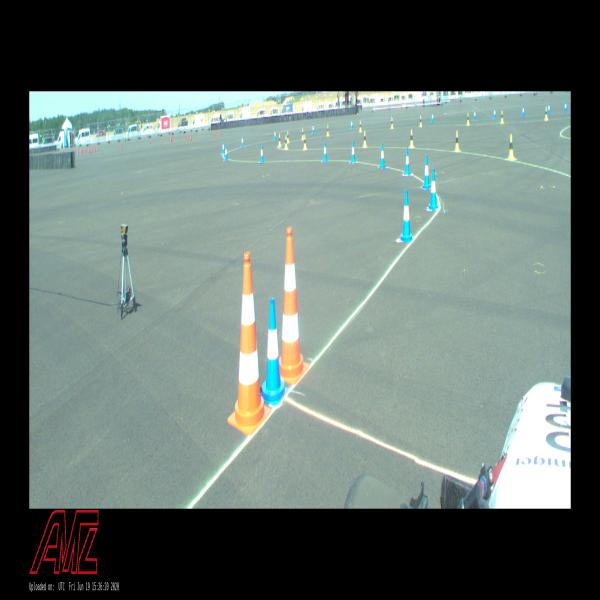blue_cone: (260, 297, 288, 407), (399, 190, 414, 242), (429, 169, 438, 211), (422, 155, 431, 189), (403, 147, 411, 176), (379, 144, 386, 168), (350, 141, 356, 163), (322, 142, 327, 162), (260, 144, 264, 163), (224, 145, 228, 160), (564, 100, 567, 113), (222, 142, 225, 154), (431, 112, 434, 123), (493, 108, 496, 119), (241, 136, 244, 147), (312, 124, 315, 134), (548, 102, 550, 116), (522, 105, 524, 117), (474, 109, 476, 121), (274, 129, 276, 140), (351, 119, 353, 129)
large_orange_cone: (228, 252, 272, 436), (279, 227, 309, 385)
yellow_cone: (508, 134, 514, 160), (454, 130, 460, 152), (409, 129, 414, 148), (363, 130, 367, 148), (303, 134, 307, 150), (544, 106, 548, 122), (500, 110, 504, 124), (278, 133, 282, 147), (286, 130, 290, 144), (284, 135, 288, 149), (466, 112, 470, 125), (419, 115, 422, 128), (326, 124, 329, 136), (359, 121, 362, 133), (390, 117, 393, 129), (302, 128, 304, 140)
